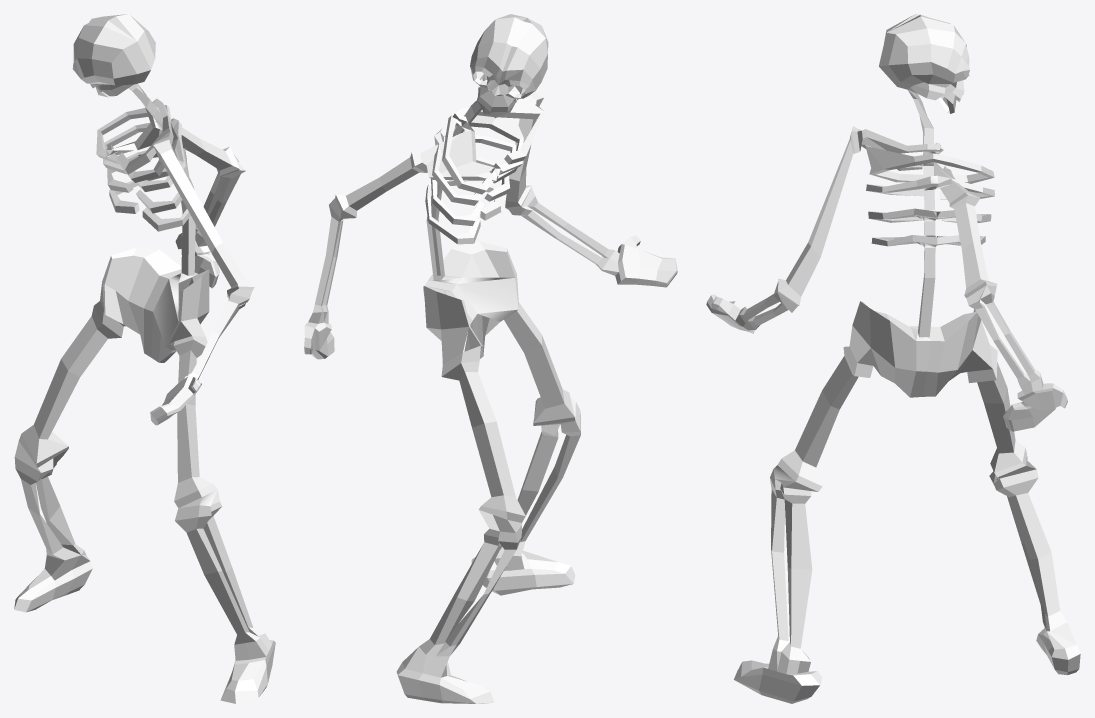
Rendered from SkeletonIdle(78).obj.
The picture shows the model from 3 angles, left to right: view 1: azimuth 30°, elevation 25°; view 2: azimuth 150°, elevation 25°; view 3: azimuth 270°, elevation 25°; orthographic projection.
Parts seen in each view (by area): view 1: Object002; view 2: Object002; view 3: Object002.
Part boxes in pixels (x1,y1,x2,y2): Object002: (14, 14, 275, 703); Object002: (304, 14, 677, 703); Object002: (706, 14, 1080, 703).
Size of the model in its own units: 409 by 1134 by 597.
